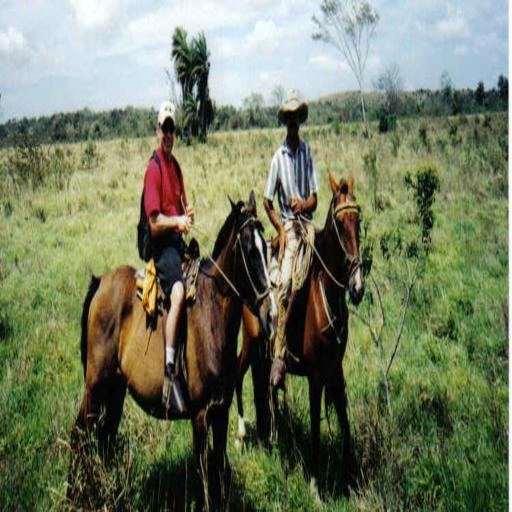horse: (64, 190, 280, 510), (232, 167, 368, 461)
